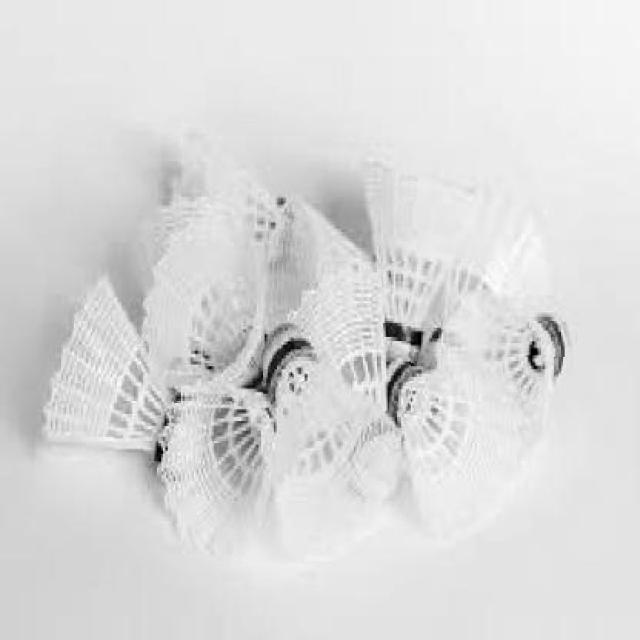Shuttlecock: (36, 124, 578, 576)
